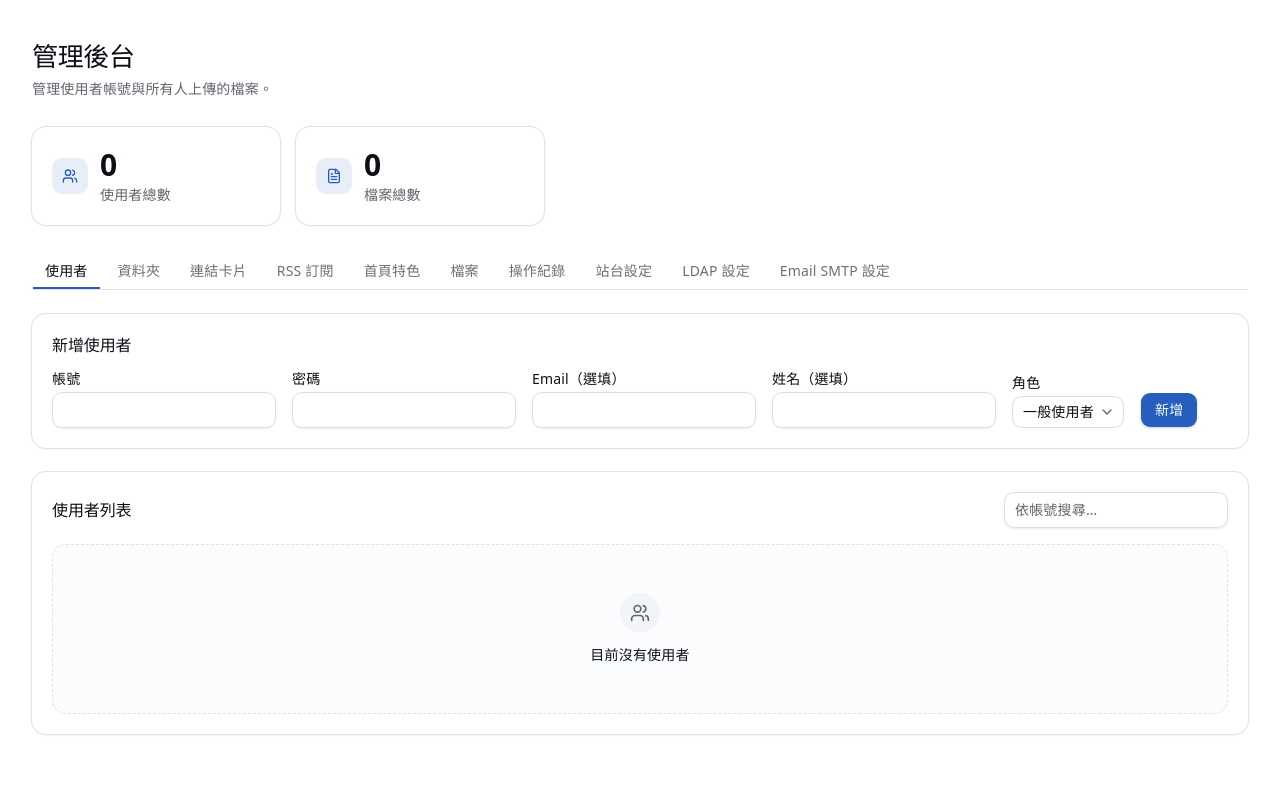
Test: AdminPage › shows a readable label, not the raw sentinel value, for the audit log action filter
The width and height of the screenshot is (1280, 800).
Expected: the heading "使用者列表" is shown, [52,499,132,521]
Click the tab "操作紀錄": (537, 270) [496,252,578,288]
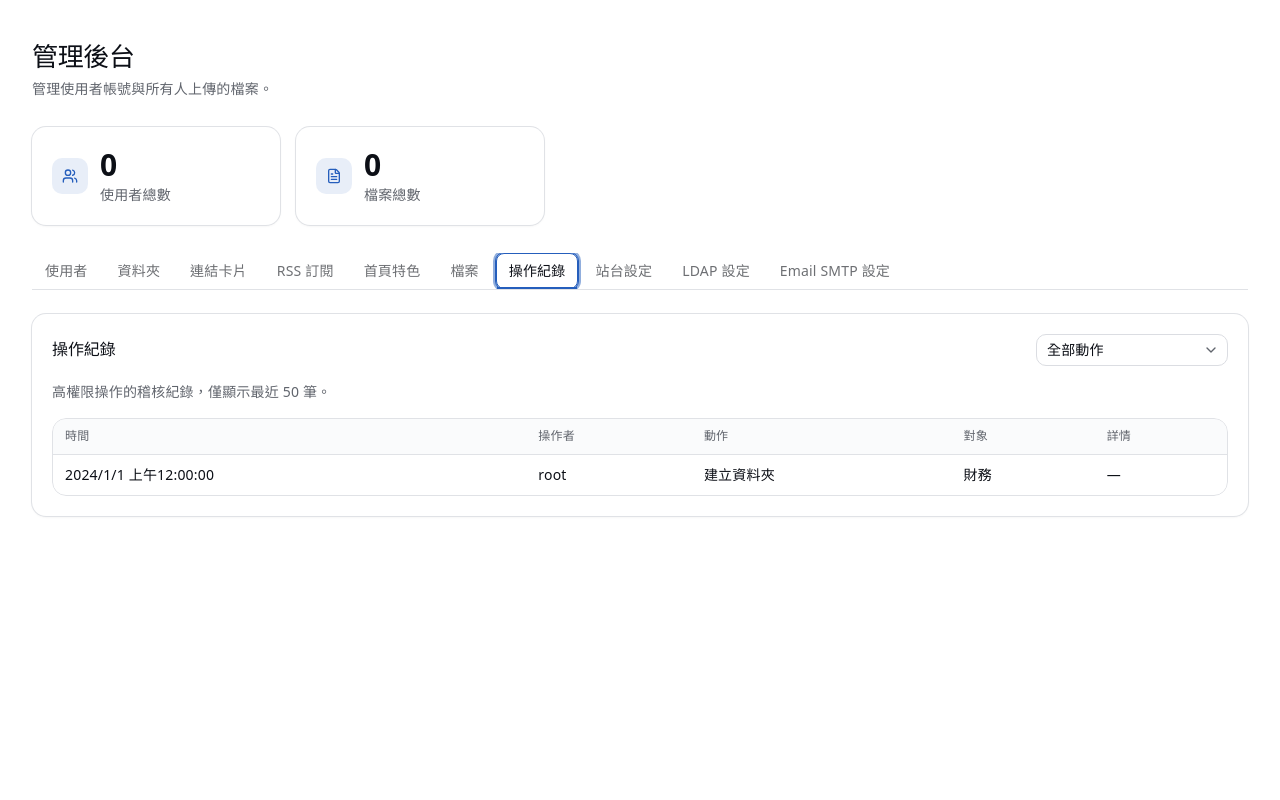
Expected: the dropdown named "依動作類型篩選" shows "全部動作", [1036,334,1228,366]
